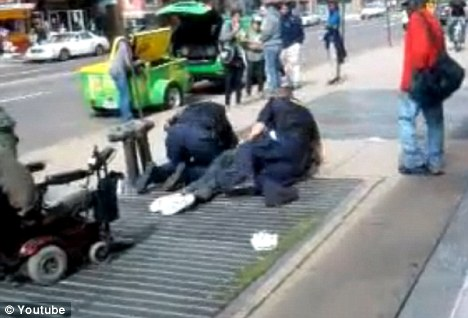10+: (2, 2, 467, 271)
down: (146, 120, 294, 215)
